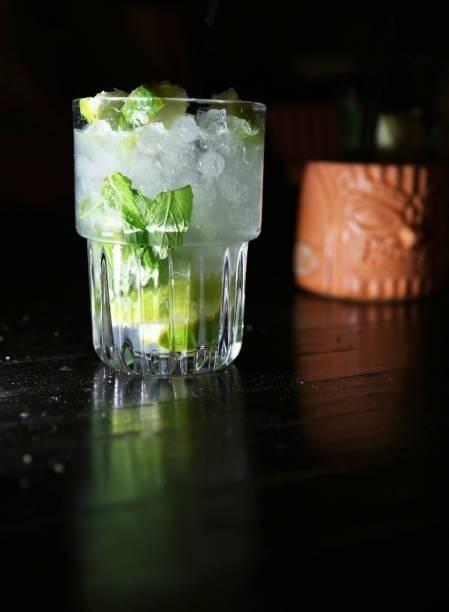glass-normal: (69, 92, 269, 378)
